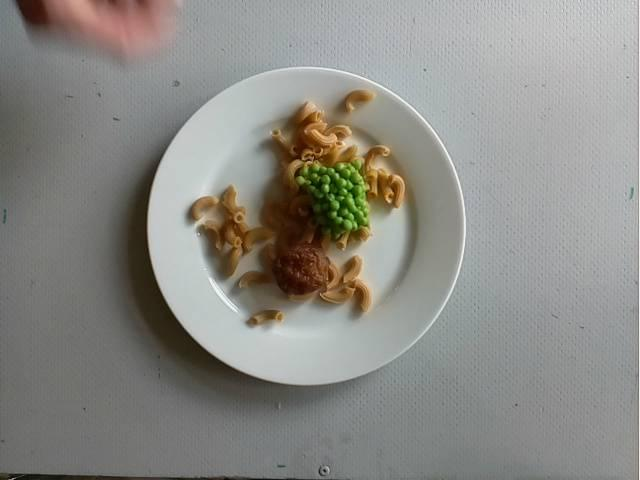Full grain pasta + peas + meatball: (195, 98, 405, 323)
